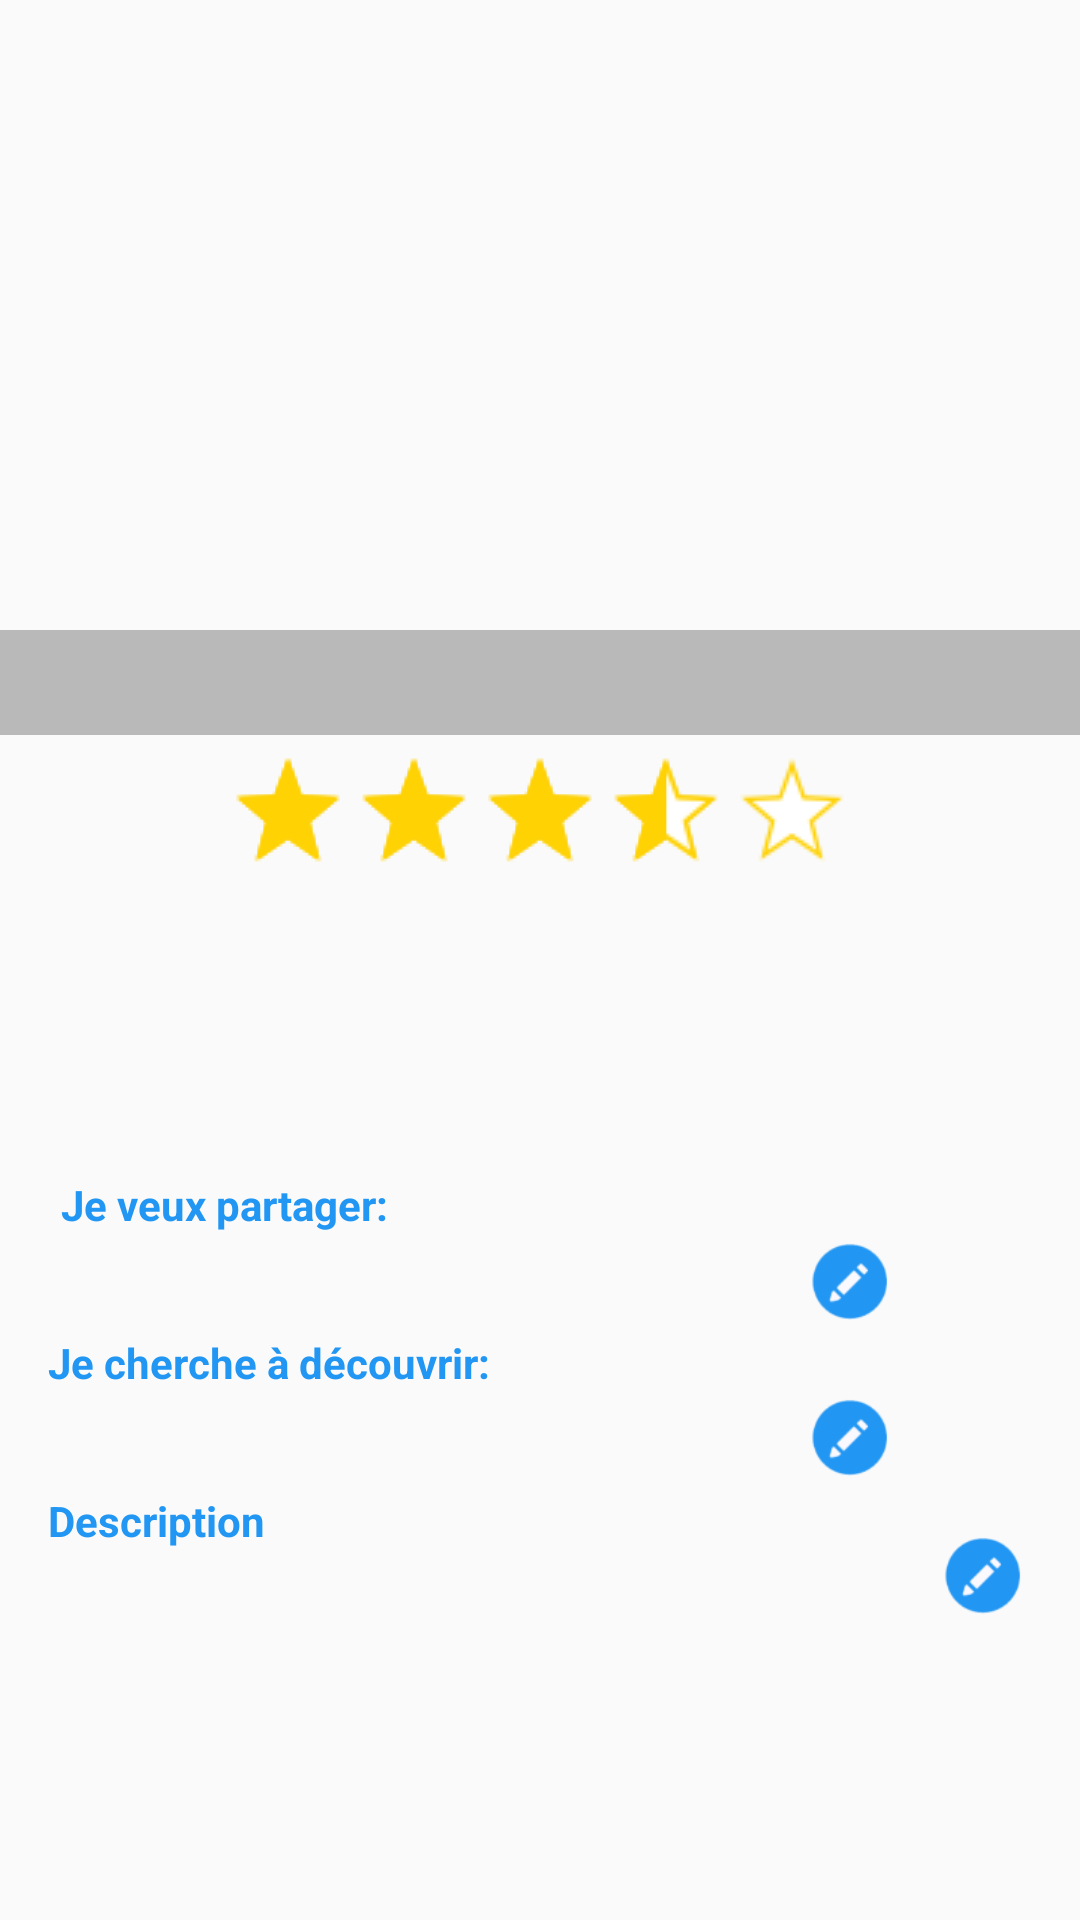

Icons on this 1080 × 1920 Android screen, each with the point to tap as (x=x, y=y):
edit: (x=849, y=1282), (x=849, y=1438), (x=982, y=1575)
